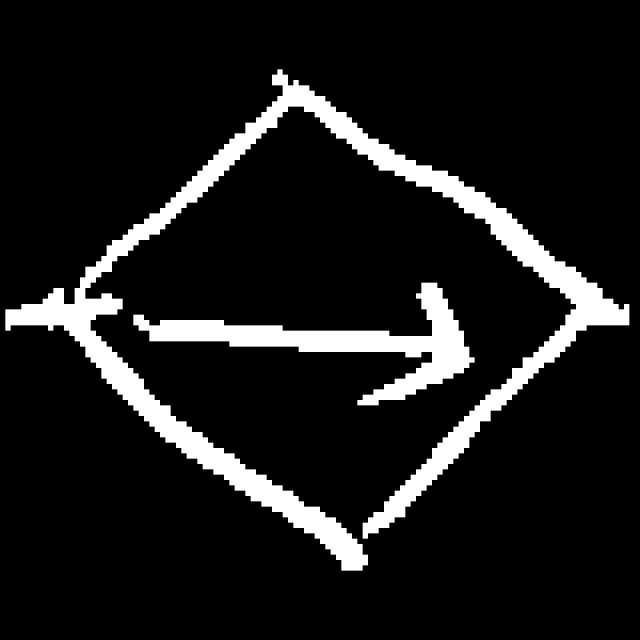dependant_current: (65, 50, 579, 576)
